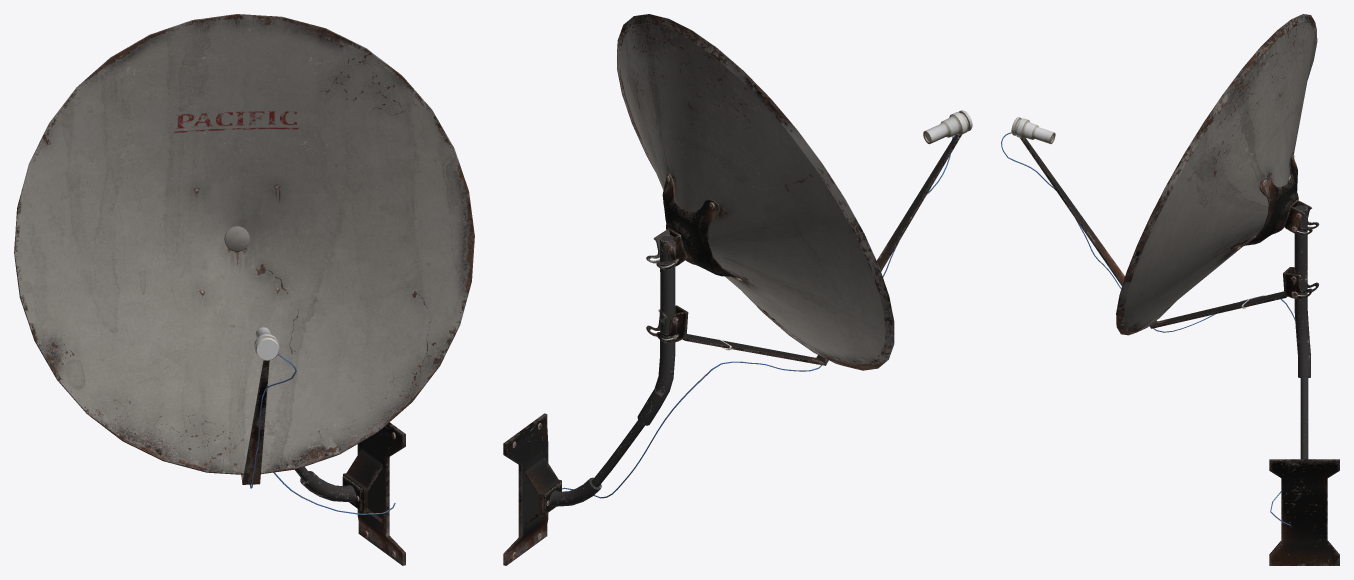
File: SM_SateliteDish_02.fbx
3 views of the same model, side by side, from view 1: azimuth 30°, elevation 25°; view 2: azimuth 150°, elevation 25°; view 3: azimuth 270°, elevation 25° (orthographic). The views are drawn at different scales.
Parts seen in each view (by area): view 1: SM_SateliteDish_02_LOD0; view 2: SM_SateliteDish_02_LOD0; view 3: SM_SateliteDish_02_LOD0.
Boxes of the visible parts, bbox=[...] form: SM_SateliteDish_02_LOD0: bbox=[14, 14, 474, 565]; SM_SateliteDish_02_LOD0: bbox=[503, 14, 972, 565]; SM_SateliteDish_02_LOD0: bbox=[1001, 14, 1339, 565].
Bounding box in the file's own units: 110 × 105 × 162.
1 material, 1 textured.
